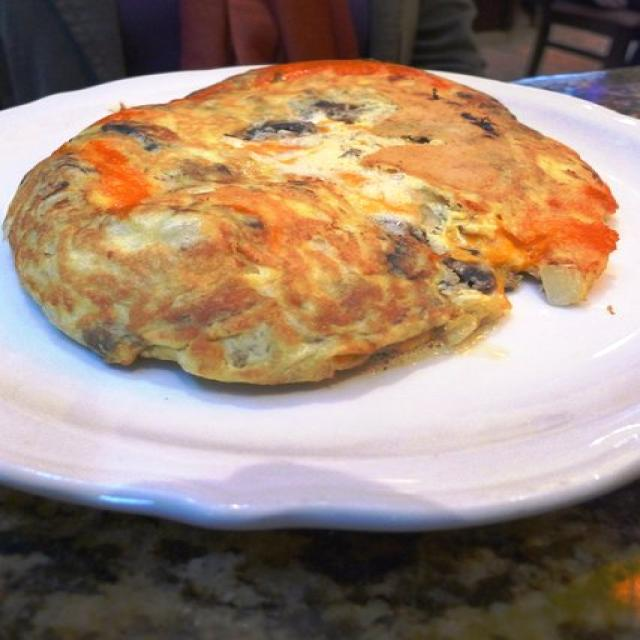omelette: (14, 53, 614, 381)
